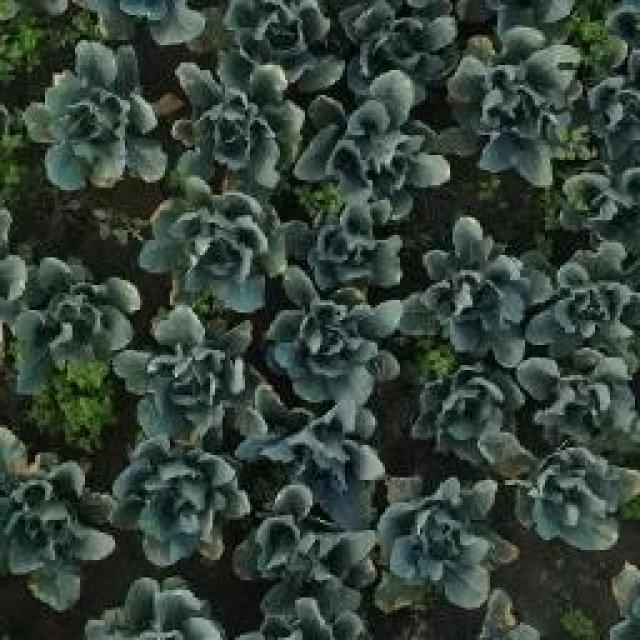cabbage: (446, 29, 577, 184), (27, 45, 167, 185), (144, 180, 287, 310), (375, 471, 507, 611), (300, 72, 451, 191), (261, 275, 403, 401), (242, 382, 387, 503), (111, 436, 249, 562), (0, 440, 112, 595), (9, 249, 141, 377), (239, 484, 382, 600), (171, 64, 306, 186), (408, 222, 523, 363), (519, 437, 639, 556), (520, 240, 639, 352), (413, 360, 529, 466), (516, 348, 640, 442), (302, 192, 412, 292), (346, 0, 466, 88), (222, 0, 341, 84), (136, 340, 234, 434), (82, 577, 217, 640)
